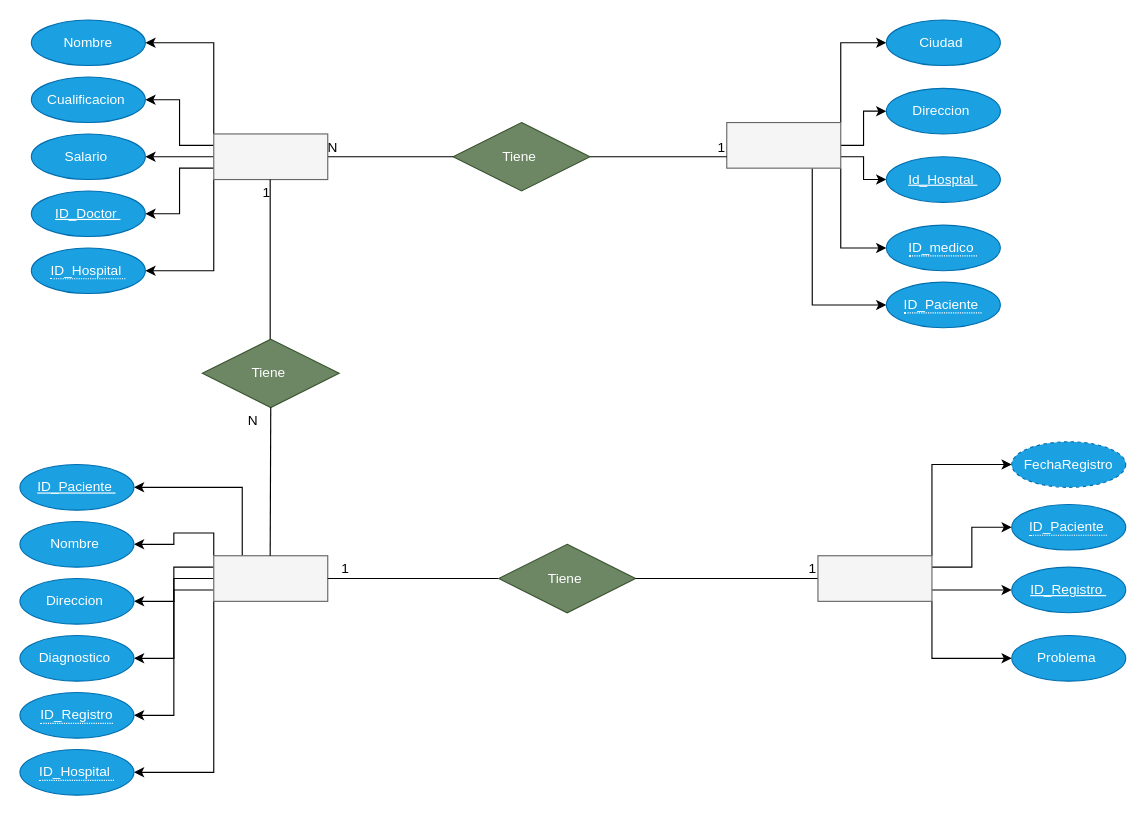
The diagram is 1146 pixels wide and 815 high, and some of its shapes have lost their labels. Here are the shapes that lost their labels. From the top down, the centre of each, then its label:
point (270, 156): Doctor
point (783, 144): Hospital
point (270, 578): Paciente
point (874, 578): Registros Medicos
